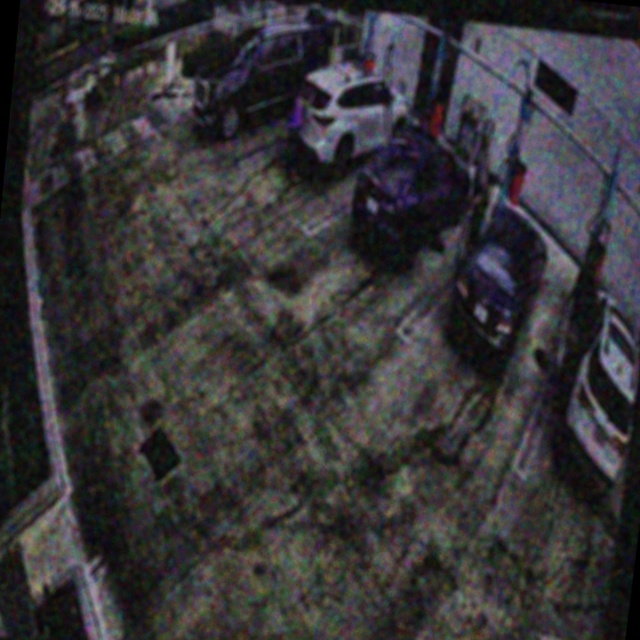Car: (348, 119, 478, 270), (446, 204, 554, 372), (291, 55, 415, 178)
